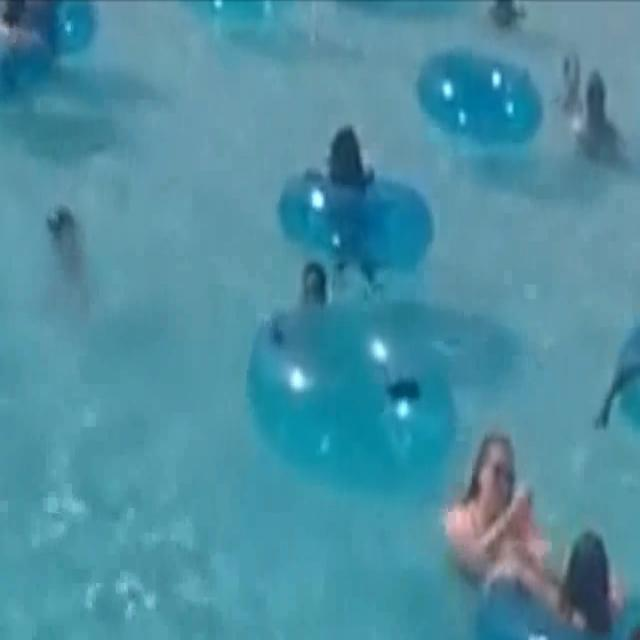drowning: (253, 235, 351, 328)
